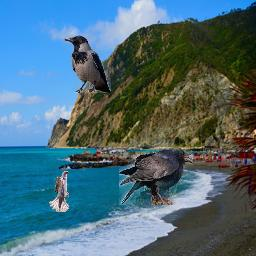Crow: (119, 149, 193, 206), (63, 35, 111, 93)
Sparrow: (49, 172, 69, 213)
